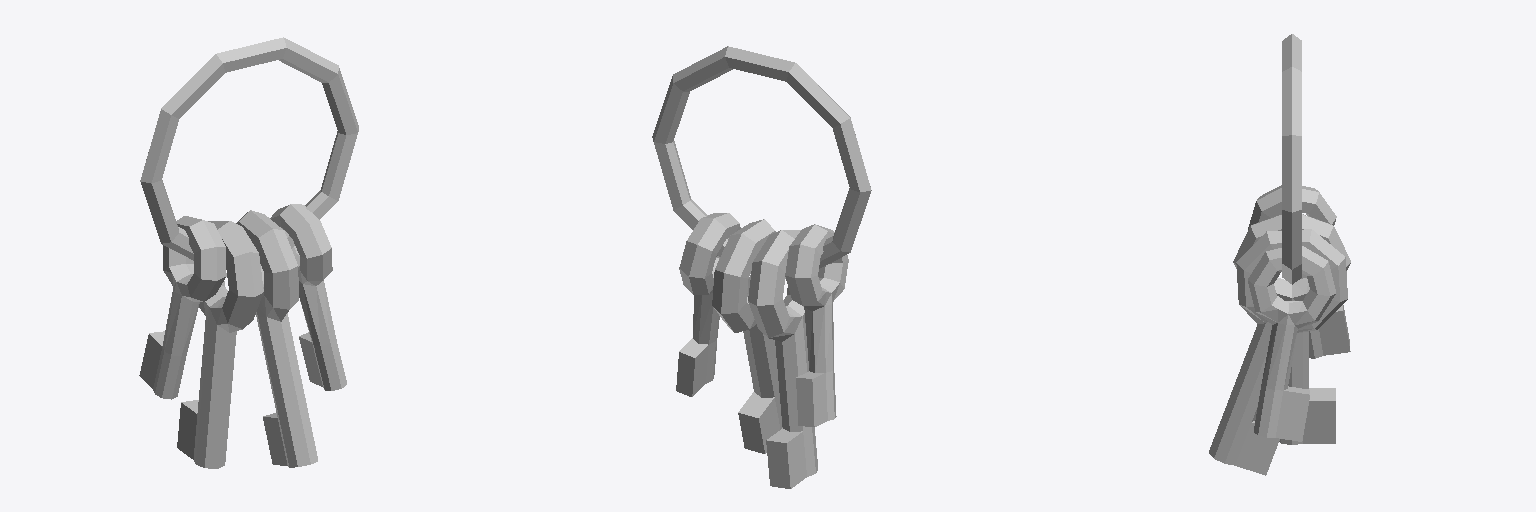
Rendered from keyring_hanging.obj.
3 renders of one model, left to right at view 1: azimuth 30°, elevation 25°; view 2: azimuth 150°, elevation 25°; view 3: azimuth 270°, elevation 25°, orthographic.
Visible parts, largest first — view 1: keyring_hanging; view 2: keyring_hanging; view 3: keyring_hanging.
Part boxes in pixels (x1,y1,x2,y2): keyring_hanging: (139,37,358,468); keyring_hanging: (652,46,871,488); keyring_hanging: (1209,34,1350,475).
Bounding box in the file's own units: 0.6797 × 1.22 × 0.3835.